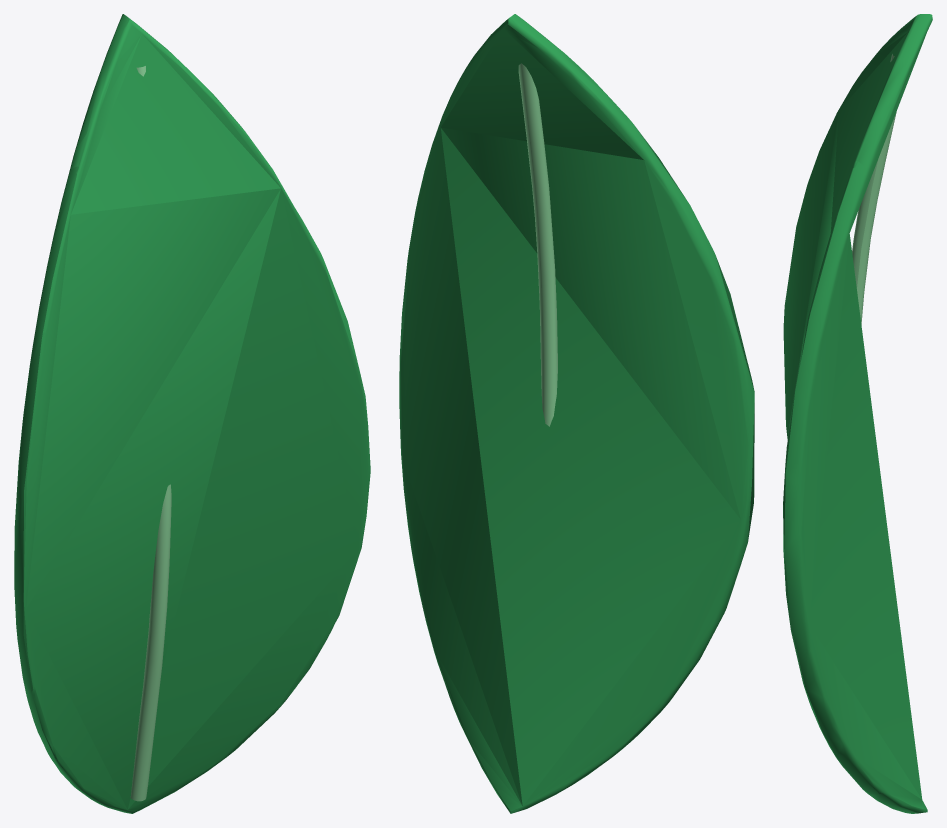
Rendered from mint.glb.
The picture shows the model from 3 angles, left to right: view 1: azimuth 30°, elevation 25°; view 2: azimuth 150°, elevation 25°; view 3: azimuth 270°, elevation 25°; orthographic projection.
Parts seen in each view (by area): view 1: mint; view 2: mint; view 3: mint.
Boxes of the visible parts, <box> form: mint: <box>14,14,370,813</box>; mint: <box>399,14,754,813</box>; mint: <box>783,14,932,813</box>.
Bounding box in the file's own units: 1.05 × 2.28 × 0.3866.
